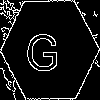G: (25, 25, 60, 72)
